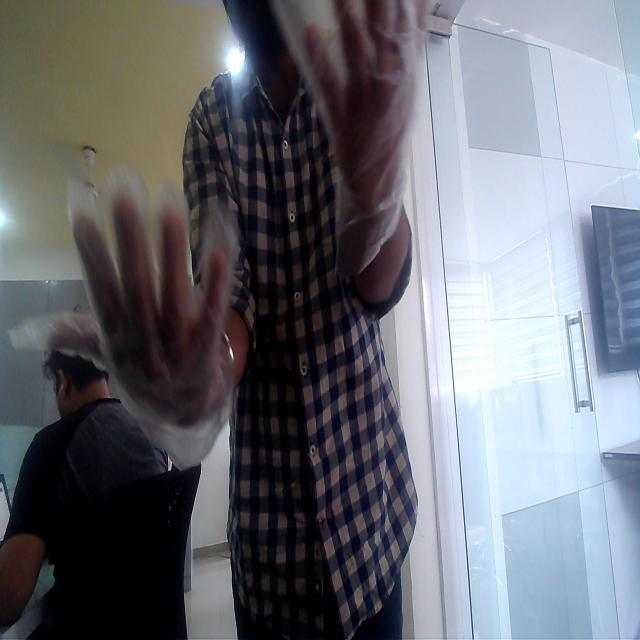with_gloves: (10, 163, 262, 492), (280, 0, 424, 268)
